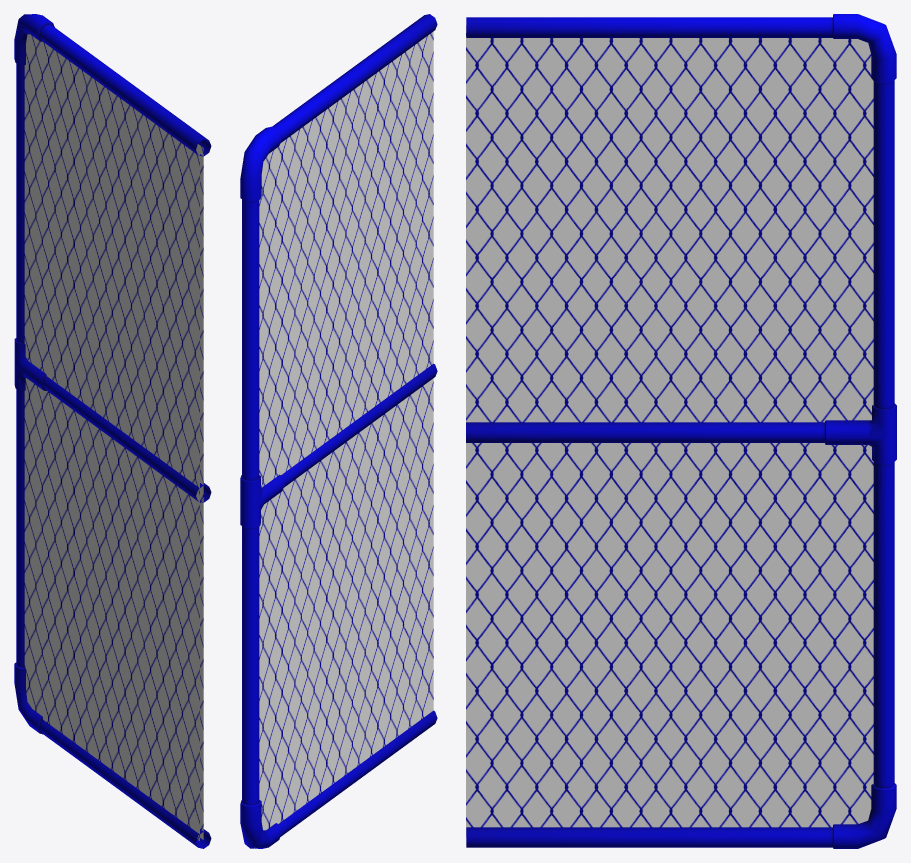
File: cerca.fbx
3 views of the same model, side by side, from view 1: azimuth 30°, elevation 25°; view 2: azimuth 150°, elevation 25°; view 3: azimuth 270°, elevation 25° (orthographic). The views are drawn at different scales.
Parts seen in each view (by area): view 1: fencewire; view 2: fencewire; view 3: fencewire.
Part boxes in pixels (x1,y1,x2,y2): fencewire: (14, 14, 211, 848); fencewire: (240, 14, 437, 848); fencewire: (466, 14, 896, 848).
Bounding box in the file's own units: 24.41 × 881 × 412.
